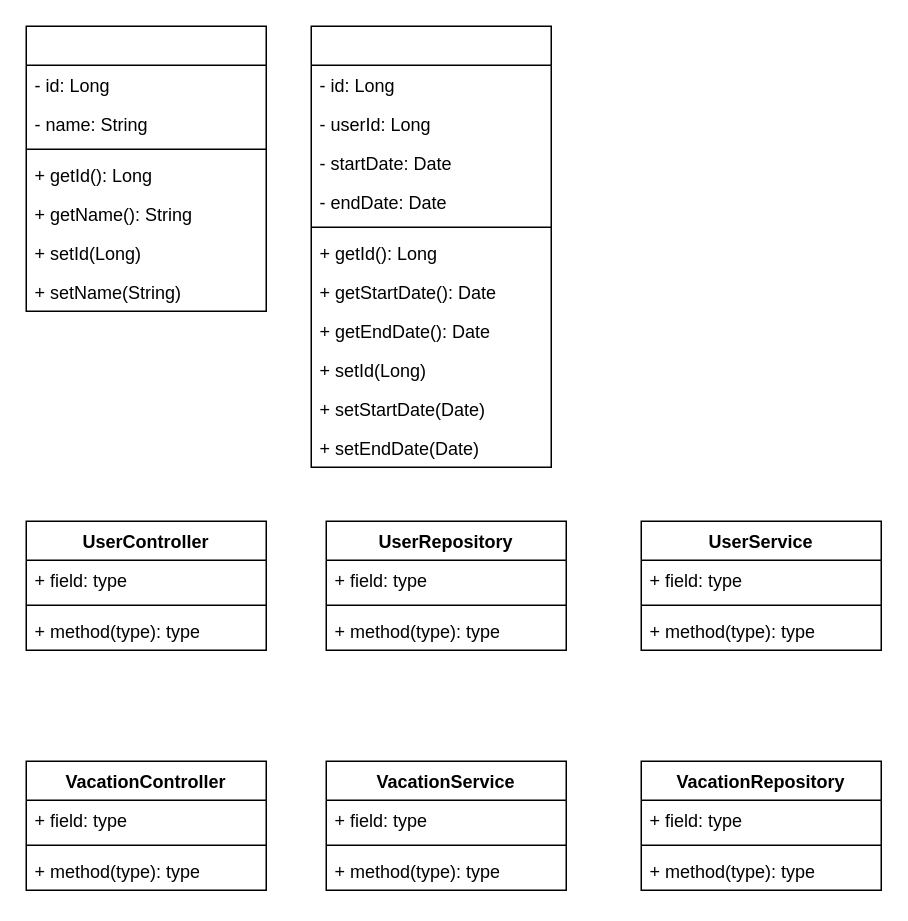
The diagram is 908 pixels wide and 921 high, and some of its shapes have lost their labels. Here are the shapes that lost their labels. From the top down, the box of each, then its label:
(25, 25, 266, 311): User
(310, 25, 551, 467): Vacation
